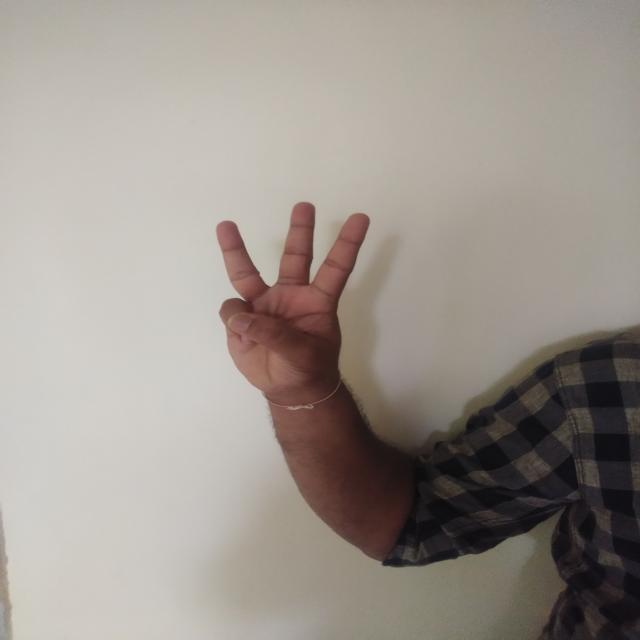Please: (182, 180, 400, 412)
